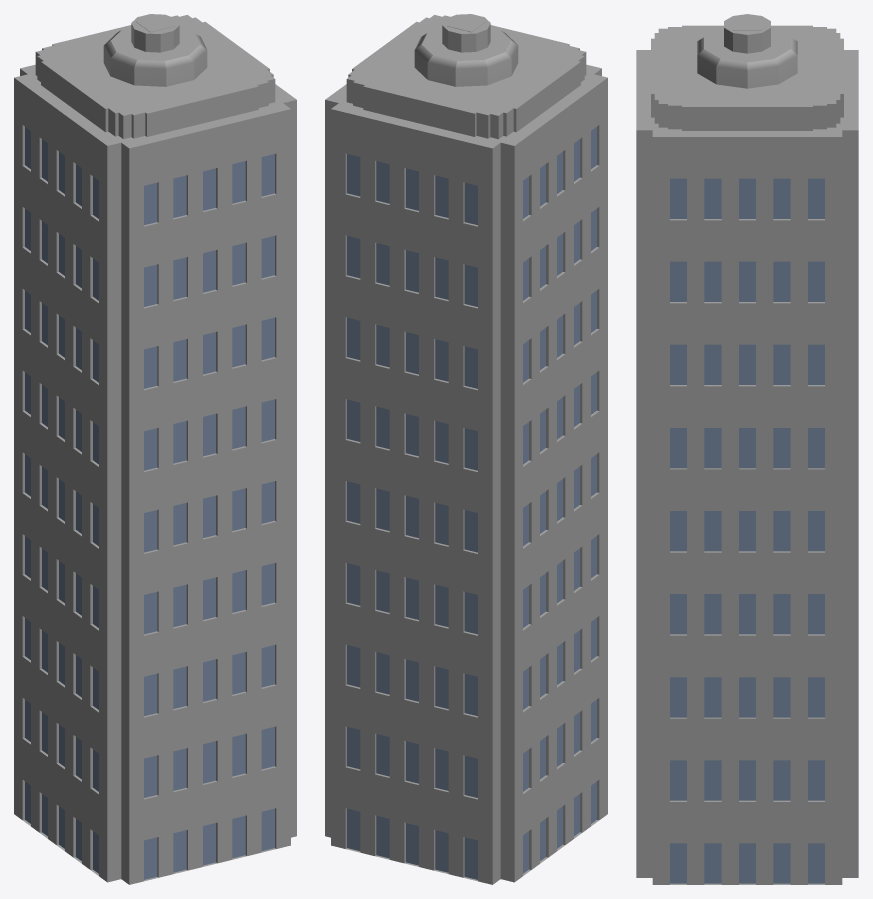
Rendered from Skyscraper2.fbx.
The picture shows the model from 3 angles, left to right: view 1: azimuth 30°, elevation 25°; view 2: azimuth 150°, elevation 25°; view 3: azimuth 270°, elevation 25°; orthographic projection.
Visible parts, largest first — view 1: Skyscraper4; view 2: Skyscraper4; view 3: Skyscraper4.
Boxes of the visible parts, box(x1,y1,x2,y2) form: Skyscraper4: box(14, 14, 296, 884); Skyscraper4: box(325, 14, 607, 884); Skyscraper4: box(636, 14, 858, 884).
Bounding box in the file's own units: 7.64 × 30.89 × 7.64.
